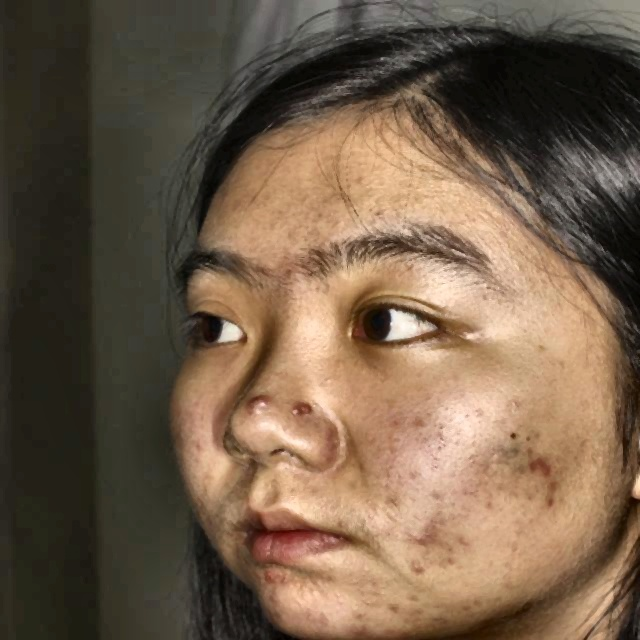pustule: (234, 389, 279, 426), (530, 478, 574, 505), (408, 523, 444, 552), (522, 448, 561, 473), (256, 562, 290, 588), (397, 553, 415, 588)
